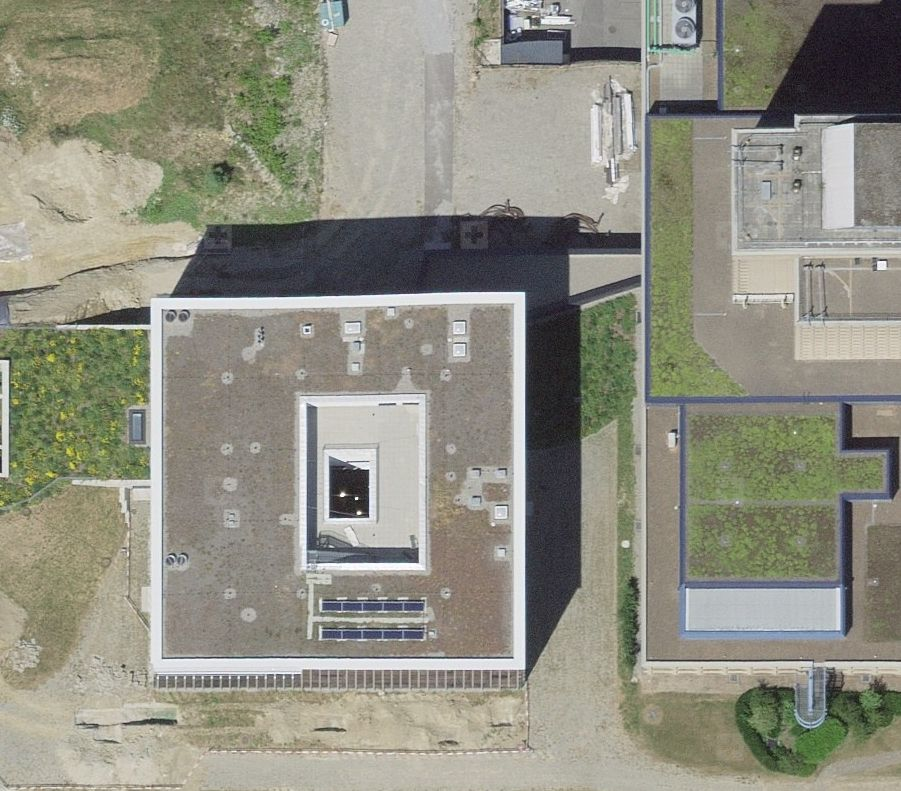solar: (304, 583, 444, 652), (300, 584, 441, 625), (294, 619, 441, 652)
